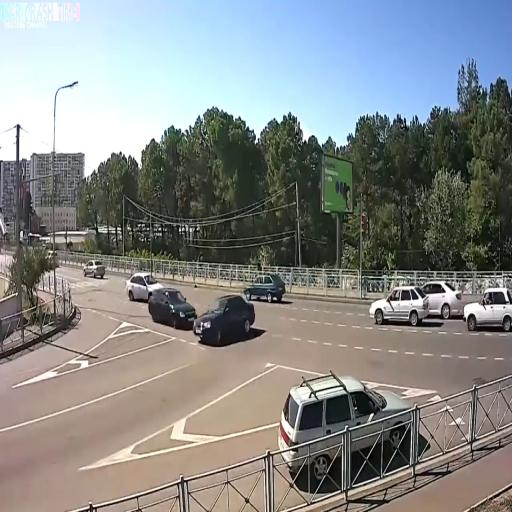小汽车: (280, 378, 414, 477), (196, 293, 253, 349), (369, 286, 428, 326), (464, 286, 512, 332), (149, 286, 196, 332), (244, 268, 286, 309), (124, 264, 161, 305), (429, 280, 459, 321), (80, 256, 106, 281)
